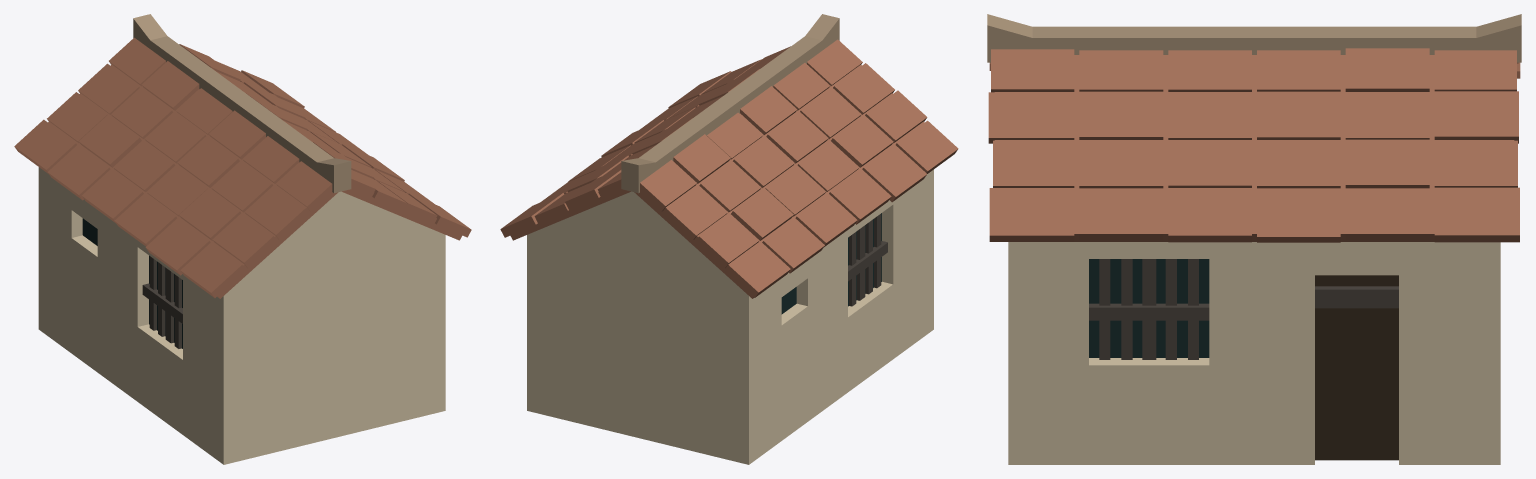
The model's file is Building_mode_L2_Northhouse006.fbx.
3 renders of one model, left to right at view 1: azimuth 30°, elevation 25°; view 2: azimuth 150°, elevation 25°; view 3: azimuth 270°, elevation 25°, orthographic. The views are drawn at different scales.
Visible parts, largest first — view 1: Building_mode_L2_Northhouse006; view 2: Building_mode_L2_Northhouse006; view 3: Building_mode_L2_Northhouse006.
Part boxes in pixels (x1,y1,x2,y2): Building_mode_L2_Northhouse006: [14, 14, 471, 464]; Building_mode_L2_Northhouse006: [500, 14, 958, 464]; Building_mode_L2_Northhouse006: [987, 14, 1521, 464].
Size of the model in its own units: 2.86 by 2.93 by 3.8.
